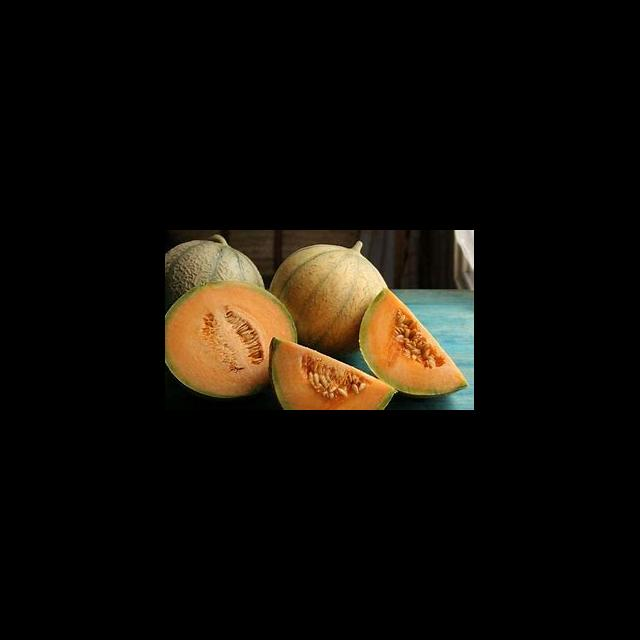Hami Melon: (165, 280, 298, 399), (359, 290, 470, 397), (269, 336, 399, 410)
